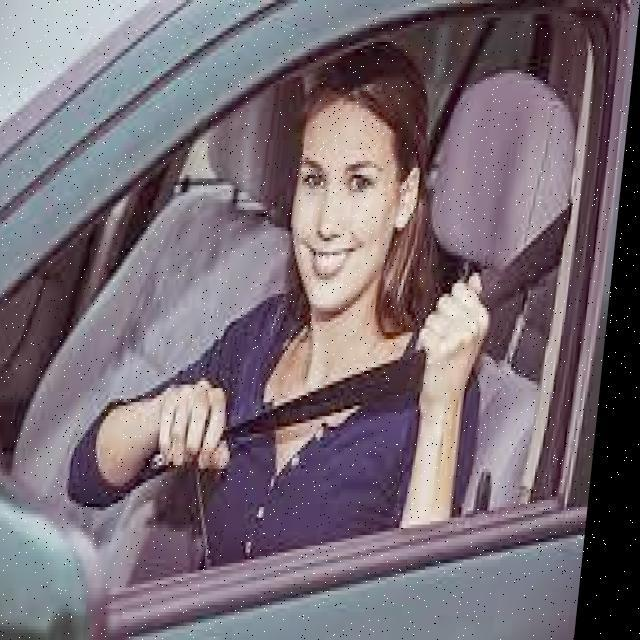seatbelt: (198, 272, 500, 574)
